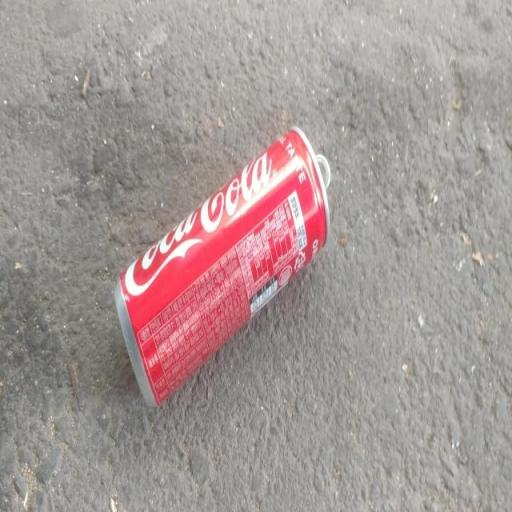metal: (90, 108, 364, 430)
